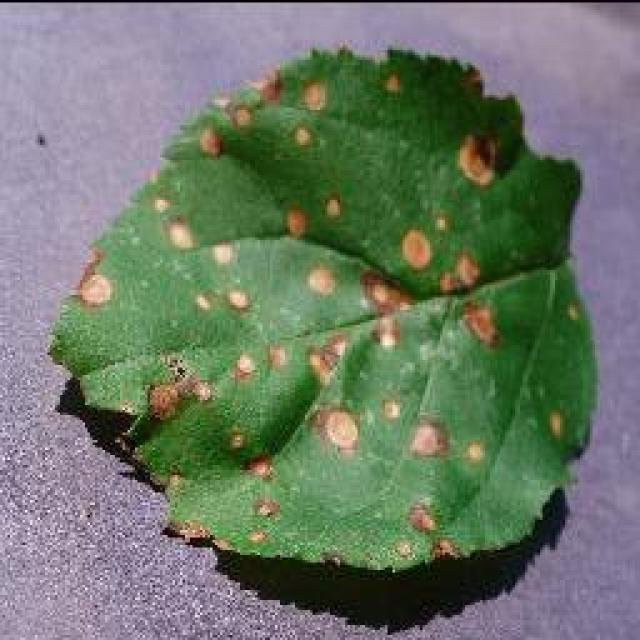apple black rot: (45, 40, 600, 608)
